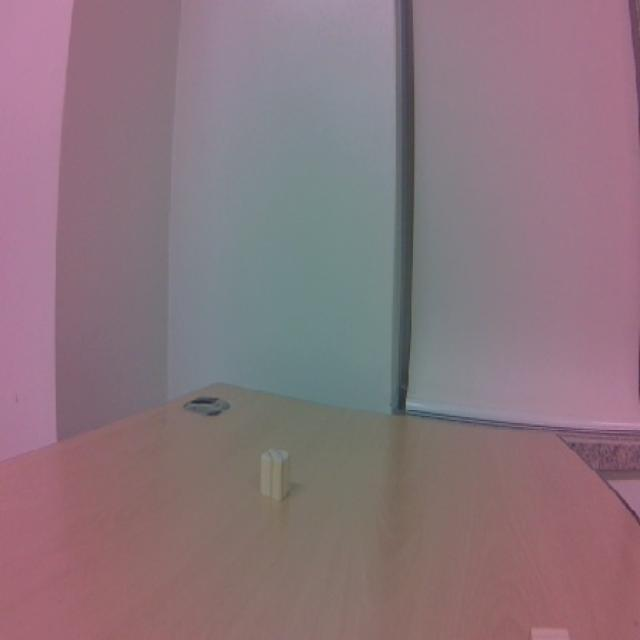obstacle: (252, 442, 306, 505)
